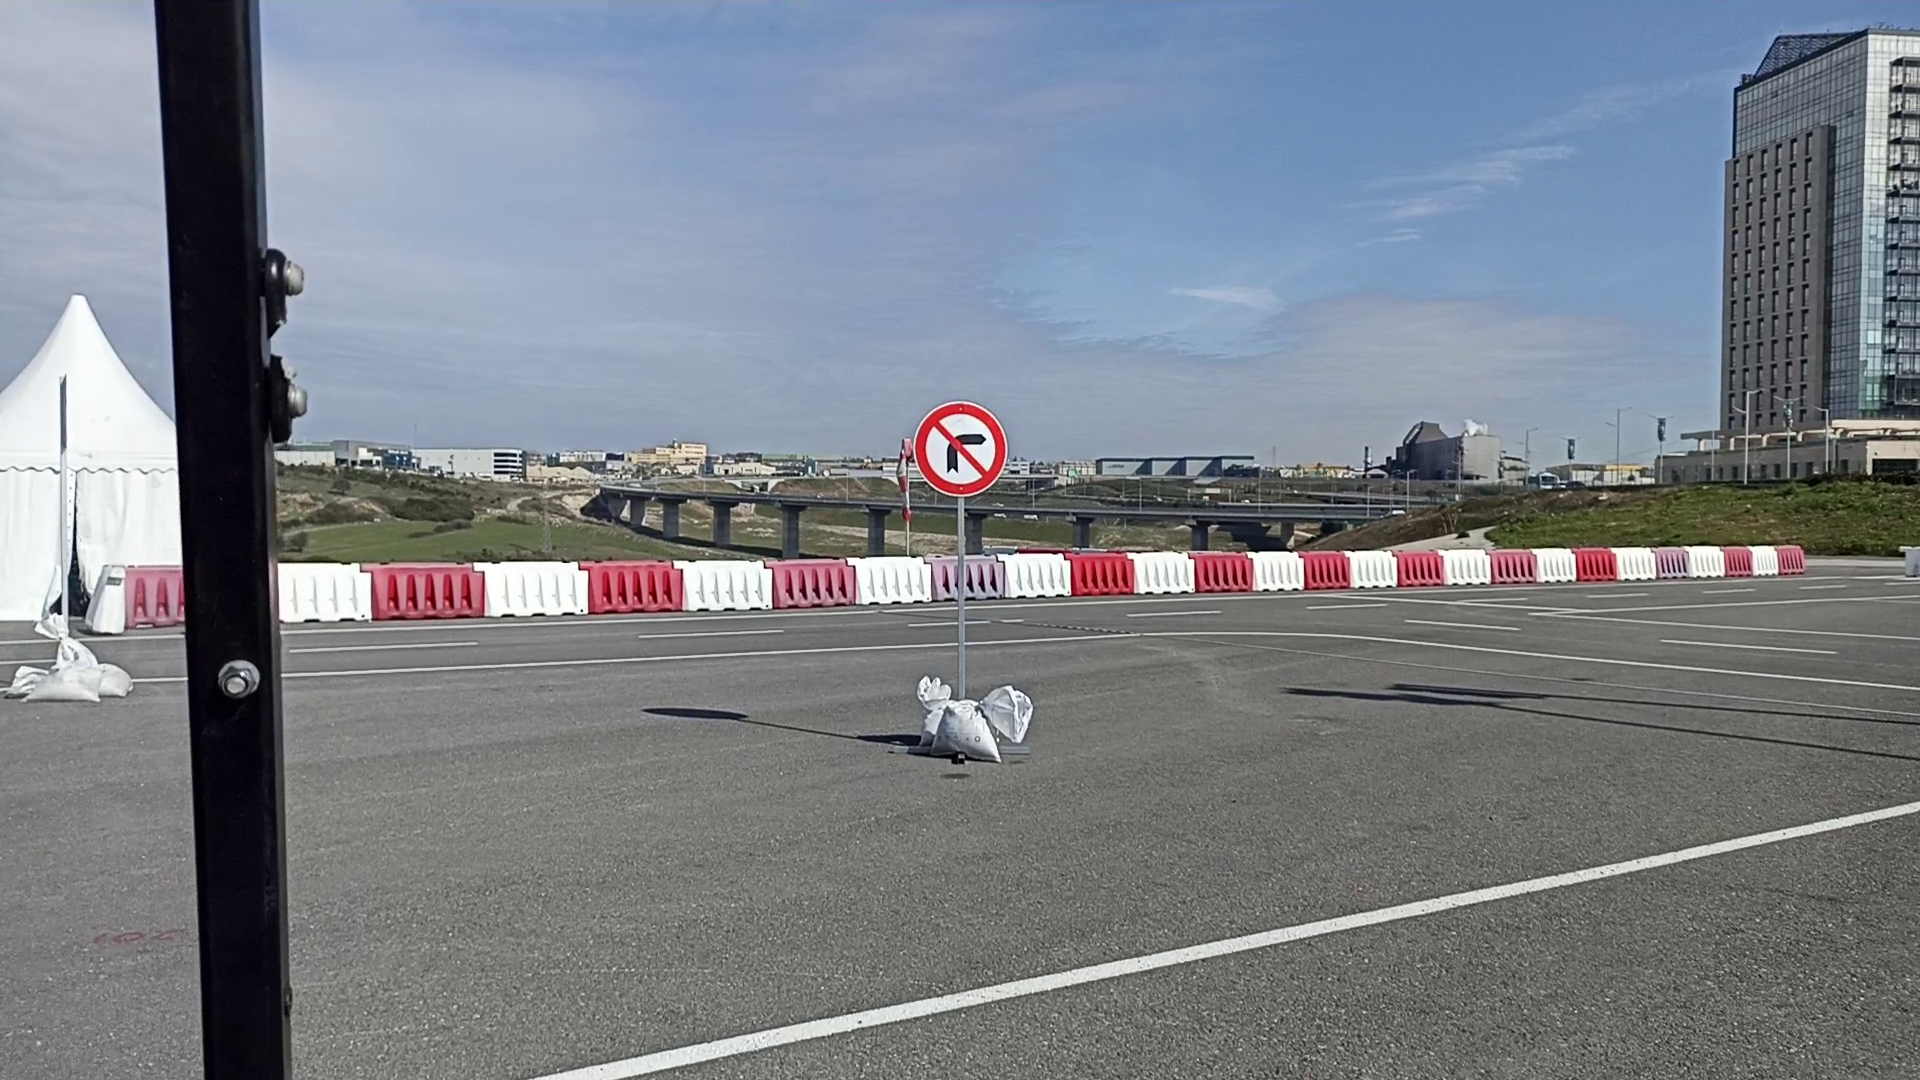noleftturn: (913, 398, 1011, 501)
